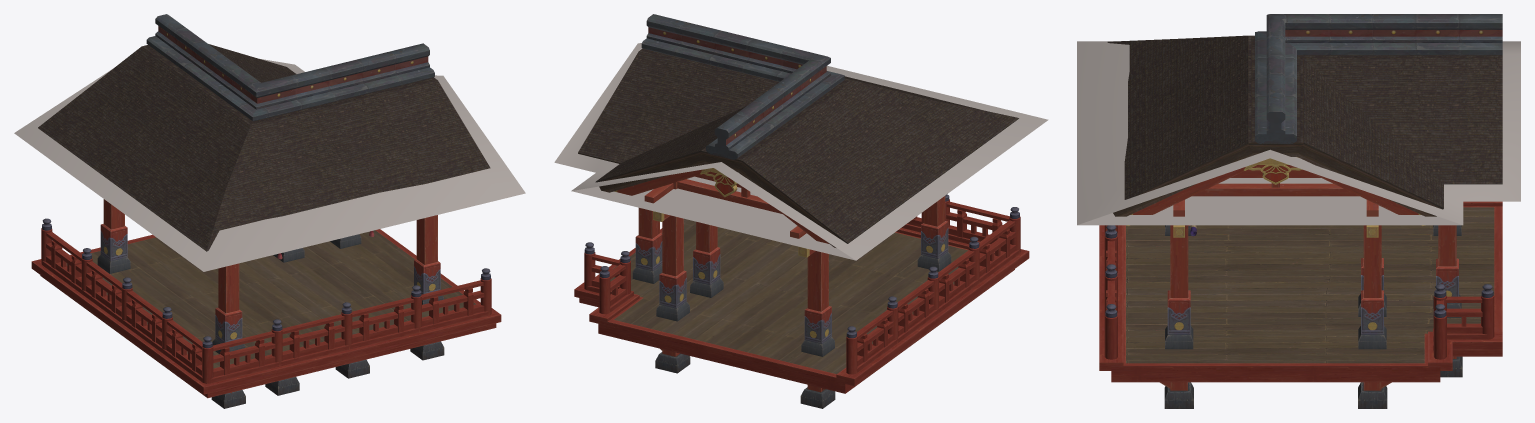
The model's file is Homeworld_Exterior_Dq_Build_Shenshe_04_Lod0.fbx.
3 renders of one model, left to right at view 1: azimuth 30°, elevation 25°; view 2: azimuth 150°, elevation 25°; view 3: azimuth 270°, elevation 25°, orthographic. The views are drawn at different scales.
Visible parts, largest first — view 1: Homeworld_Exterior_Dq_Build_Shenshe_04_Lod0, Homeworld_Exterior_Dq_Build_Shenshe_04_Ocl; view 2: Homeworld_Exterior_Dq_Build_Shenshe_04_Lod0, Homeworld_Exterior_Dq_Build_Shenshe_04_Ocl; view 3: Homeworld_Exterior_Dq_Build_Shenshe_04_Lod0, Homeworld_Exterior_Dq_Build_Shenshe_04_Ocl.
Part boxes in pixels (x1,y1,x2,y2): Homeworld_Exterior_Dq_Build_Shenshe_04_Lod0: (31,14,501,408); Homeworld_Exterior_Dq_Build_Shenshe_04_Ocl: (14,59,525,271); Homeworld_Exterior_Dq_Build_Shenshe_04_Lod0: (574,14,1029,408); Homeworld_Exterior_Dq_Build_Shenshe_04_Ocl: (554,43,1048,260); Homeworld_Exterior_Dq_Build_Shenshe_04_Lod0: (1099,14,1502,408); Homeworld_Exterior_Dq_Build_Shenshe_04_Ocl: (1077,41,1520,225).
Size of what is drawn, in the model's own units: 8.53 by 6.78 by 8.7.
